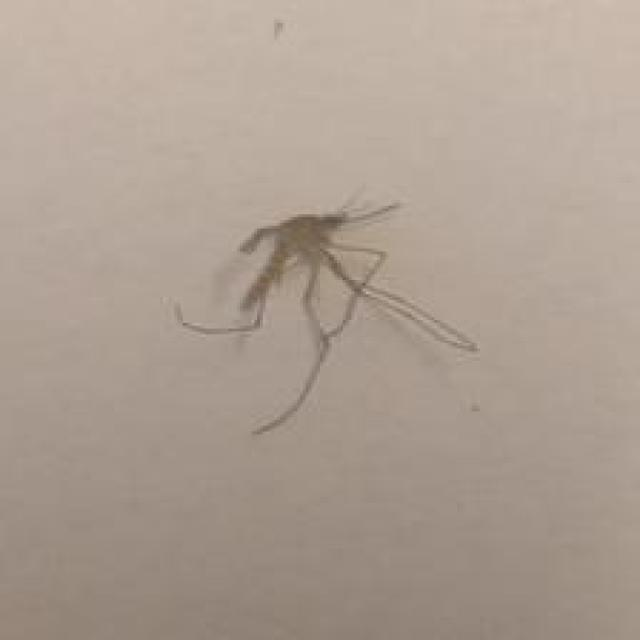Culex: (173, 183, 481, 437)
